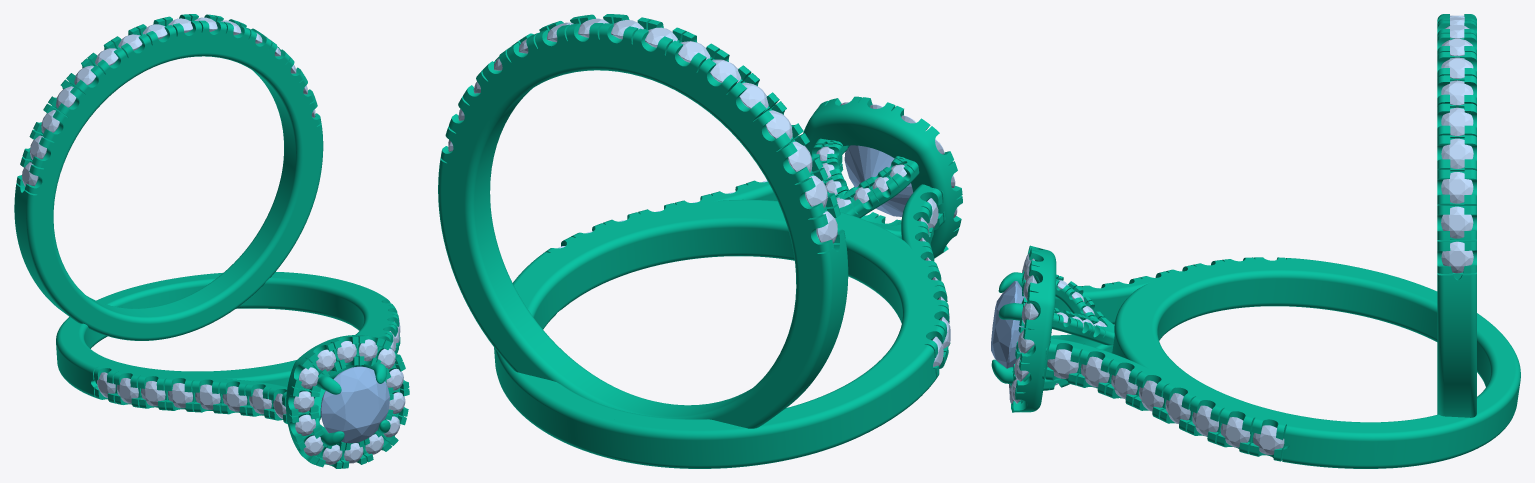
3 renders of one model, left to right at view 1: azimuth 30°, elevation 25°; view 2: azimuth 150°, elevation 25°; view 3: azimuth 270°, elevation 25°, orthographic. The views are drawn at different scales.
Parts seen in each view (by area): view 1: VR-84(base).3dm, Diamond_Round (×5); view 2: VR-84(base).3dm, Diamond_Round; view 3: VR-84(base).3dm, Diamond_Round (×11).
Boxes of the visible parts, x1,y1,x2,y2 form: VR-84(base).3dm: [14, 14, 409, 468]; Diamond_Round (×5): [141, 366, 389, 443]; VR-84(base).3dm: [438, 14, 962, 468]; Diamond_Round: [844, 145, 913, 216]; VR-84(base).3dm: [991, 14, 1520, 468]; Diamond_Round (×11): [991, 107, 1473, 454].
Size of the model in its own units: 2.1 by 2.08 by 2.7.
